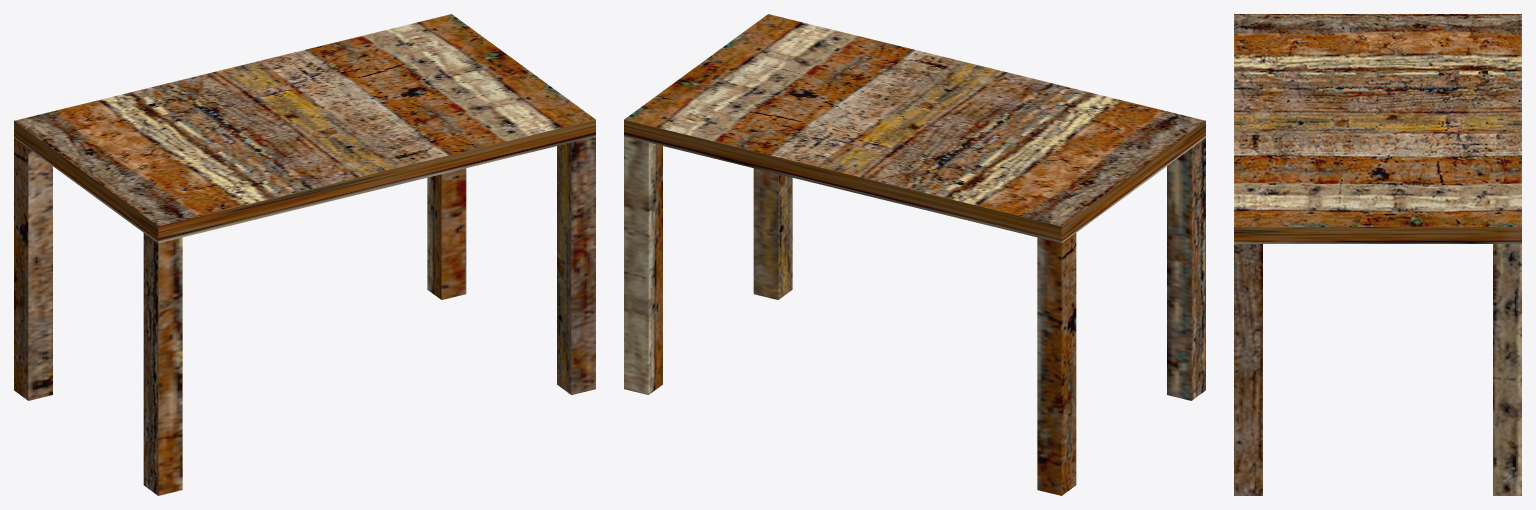
File: table.fbx
The picture shows the model from 3 angles, left to right: view 1: azimuth 30°, elevation 25°; view 2: azimuth 150°, elevation 25°; view 3: azimuth 270°, elevation 25°; orthographic projection.
Visible parts, largest first — view 1: table; view 2: table; view 3: table.
Part boxes in pixels (x1,y1,x2,y2): table: [14, 14, 595, 495]; table: [624, 14, 1205, 495]; table: [1234, 14, 1521, 495].
Size of the model in its own units: 731 by 430 by 417.
Materials: 1 (1 with a texture image).
